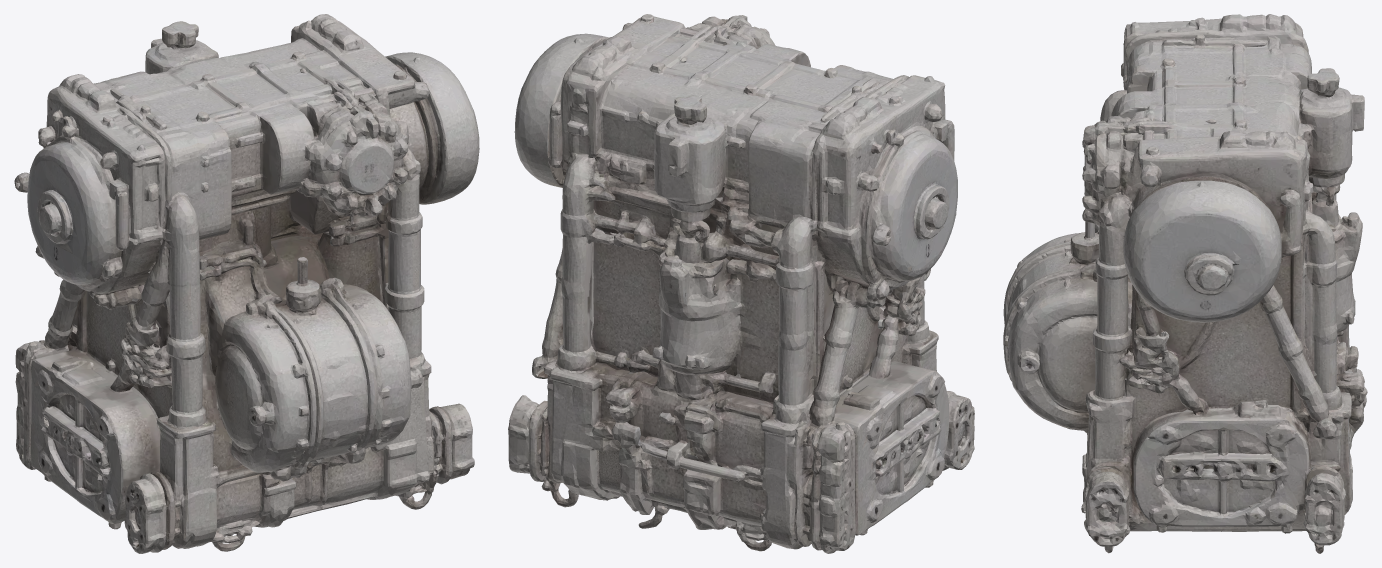
File: head (3).glb
The picture shows the model from 3 angles, left to right: view 1: azimuth 30°, elevation 25°; view 2: azimuth 150°, elevation 25°; view 3: azimuth 270°, elevation 25°; orthographic projection. The views are drawn at different scales.
Parts seen in each view (by area): view 1: Hy21_Mesh.obj; view 2: Hy21_Mesh.obj; view 3: Hy21_Mesh.obj.
Part boxes in pixels (box(x1,y1,x2,y2)): Hy21_Mesh.obj: box(14, 14, 479, 553); Hy21_Mesh.obj: box(508, 14, 974, 553); Hy21_Mesh.obj: box(1003, 14, 1367, 553).
Bounding box in the file's own units: 1.94 × 1.95 × 1.54.
1 material, 1 textured.
